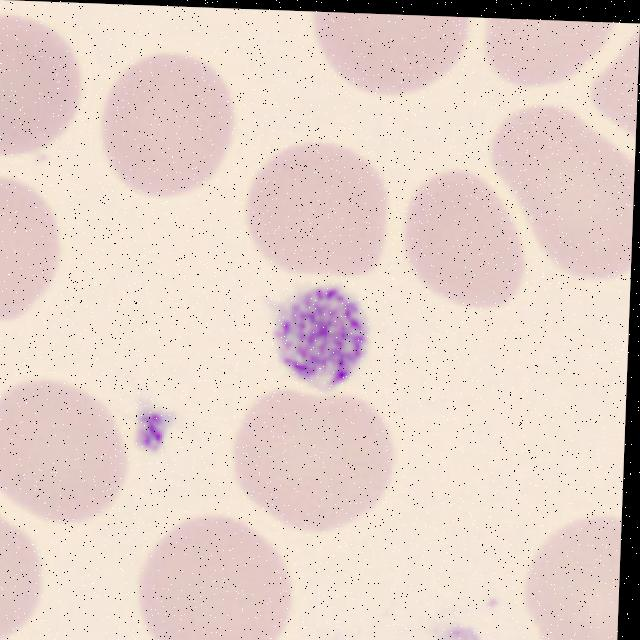platelets: (271, 281, 376, 399), (128, 396, 174, 460)
rbc: (483, 97, 637, 278), (225, 386, 407, 539), (113, 503, 303, 640), (88, 45, 242, 205), (0, 365, 136, 528), (242, 132, 393, 278), (399, 168, 529, 318), (296, 11, 479, 109), (0, 6, 89, 163), (517, 508, 622, 640), (474, 18, 619, 96), (0, 172, 71, 325), (0, 494, 71, 640), (589, 22, 640, 170)
